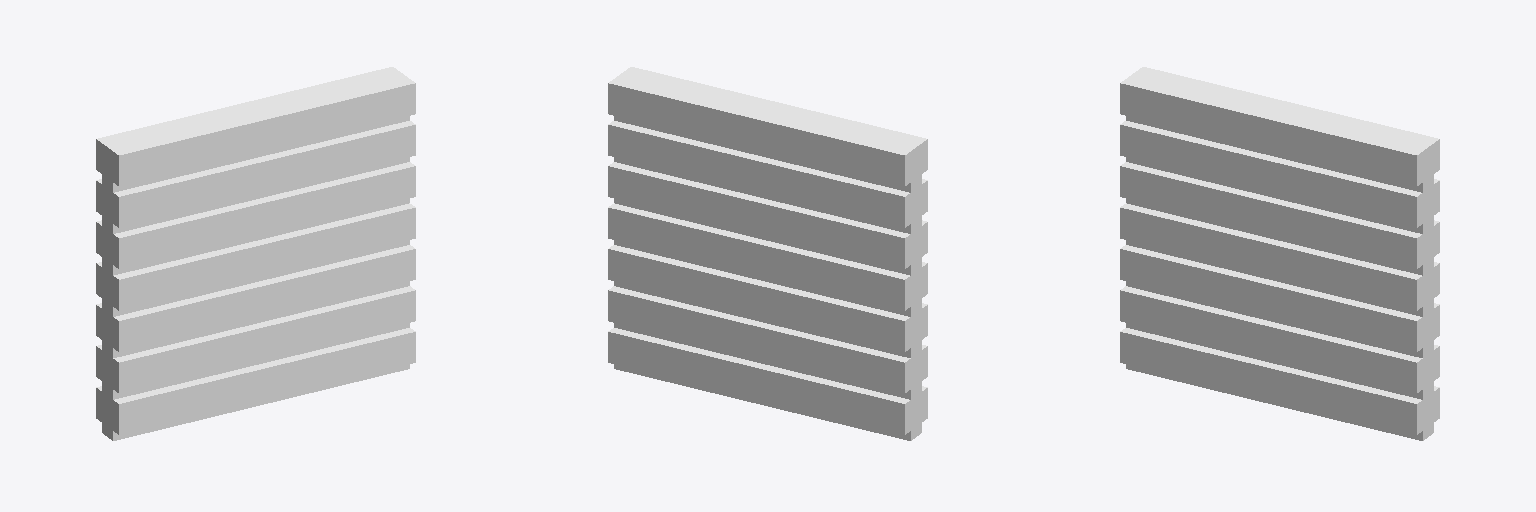
File: TrashFactory-0.obj
The picture shows the model from 3 angles: view 1: azimuth 30°, elevation 25°; view 2: azimuth 150°, elevation 25°; view 3: azimuth 330°, elevation 25°; orthographic projection.
Parts seen in each view (by area): view 1: object 1; view 2: object 1; view 3: object 1.
Part boxes in pixels (left/top/right/bottom): object 1: left=96, top=67, right=415, bottom=440; object 1: left=608, top=67, right=927, bottom=440; object 1: left=1120, top=67, right=1439, bottom=440.
Bounding box in the file's own units: 3 × 2.8 × 0.4.